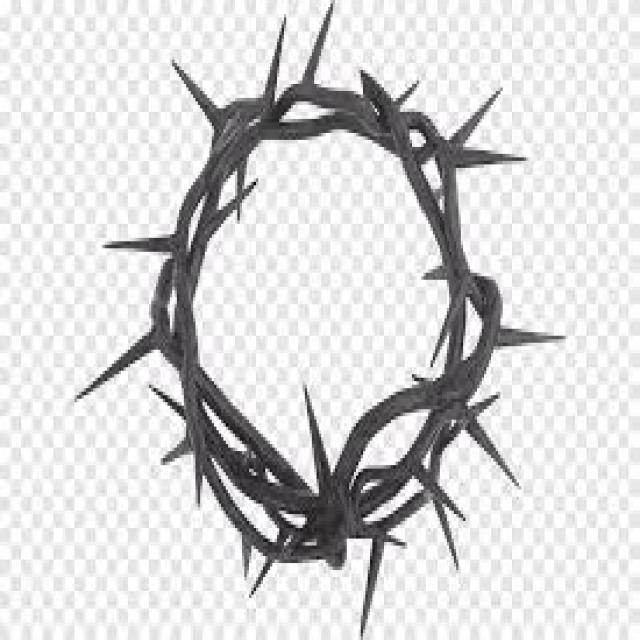crown: (101, 0, 554, 640)
